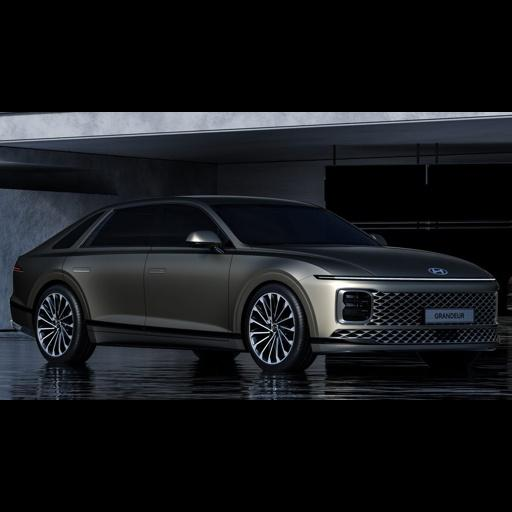car: (505, 277, 511, 310)
hatchback: (10, 195, 498, 371)
